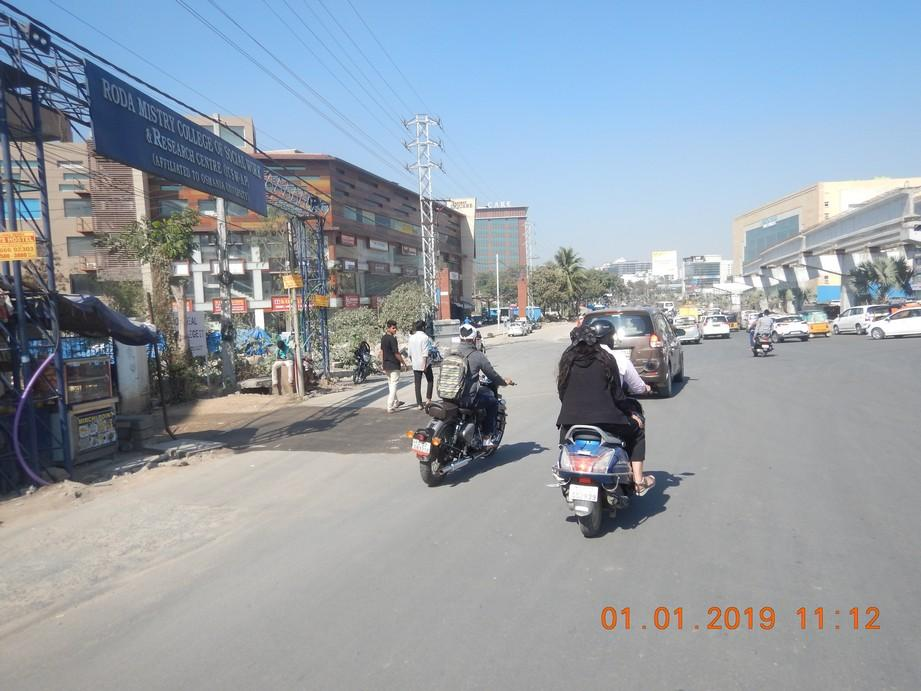plate: (411, 437, 432, 457)
